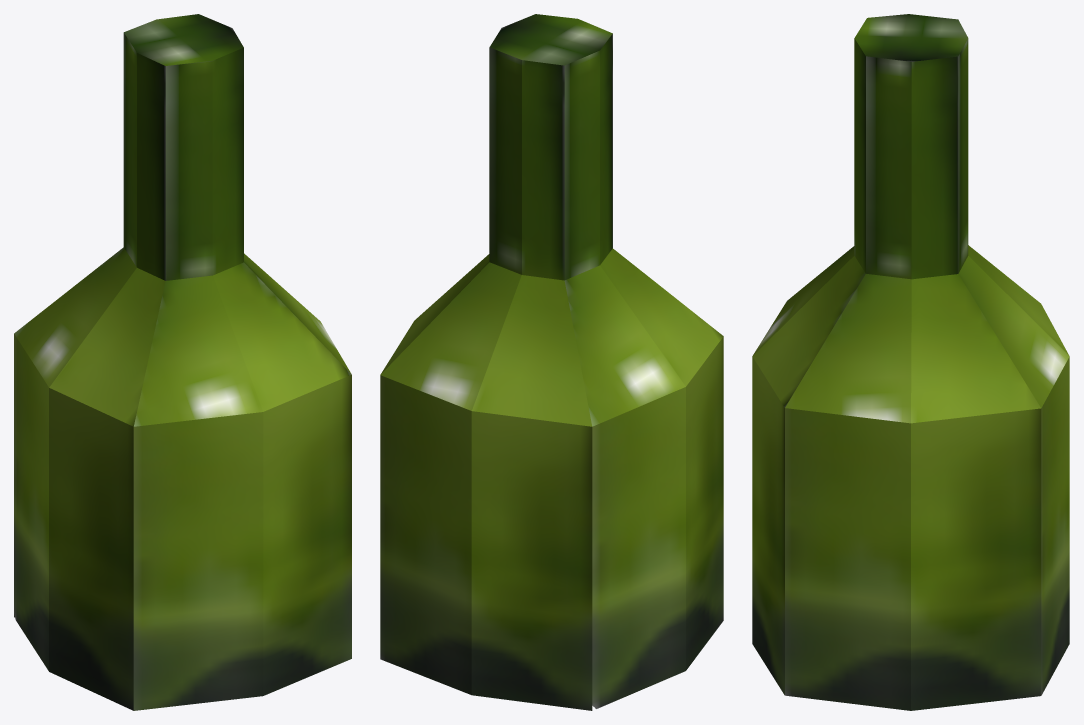
File: Butilka.fbx
3 renders of one model, left to right at view 1: azimuth 30°, elevation 25°; view 2: azimuth 150°, elevation 25°; view 3: azimuth 270°, elevation 25°, orthographic.
Visible parts, largest first — view 1: Cube; view 2: Cube; view 3: Cube.
Part boxes in pixels (x1,y1,x2,y2): Cube: [14, 14, 351, 710]; Cube: [380, 14, 723, 710]; Cube: [752, 14, 1069, 710].
Size of the model in its own units: 200 by 421 by 200.
Materials: 1 (1 with a texture image).
